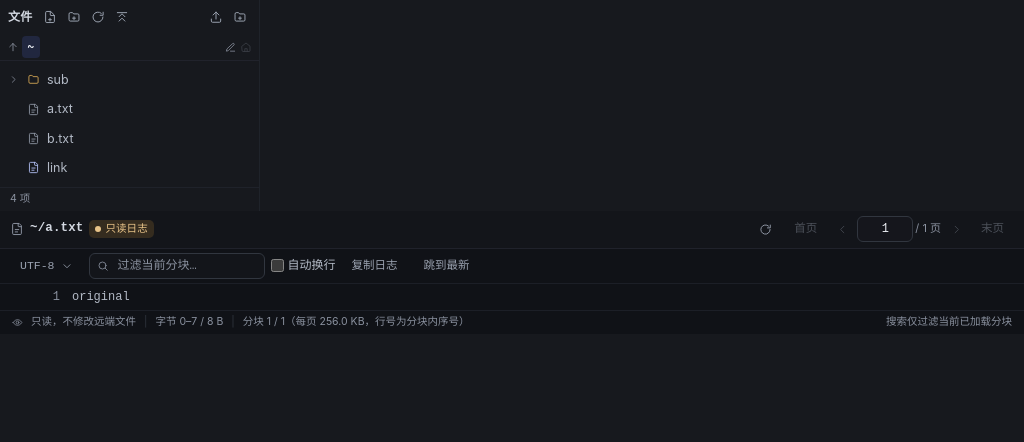
Scenario: R2 rename editor locator migration › reloads LogViewer from the migrated locator after rename
Right-click the list item "a.txt" at (50, 109), box top-left (27, 101), bottom-right (73, 116)
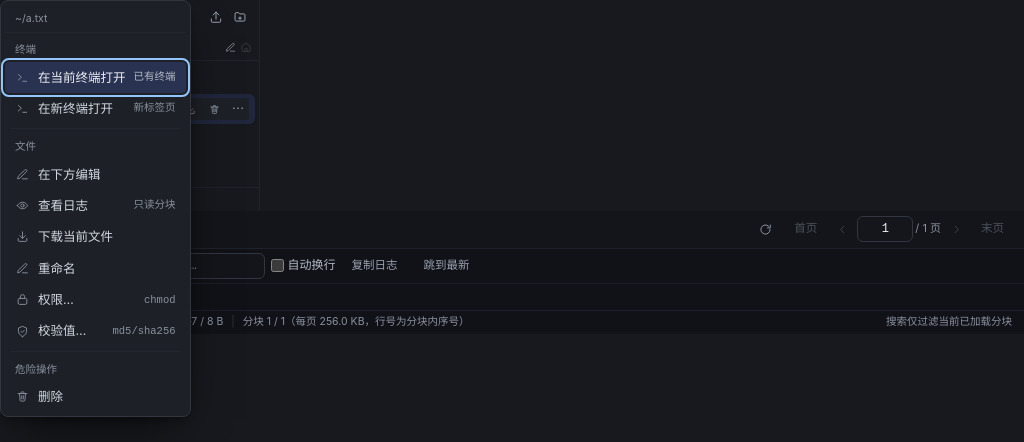
Click the menu item "重命名" at (95, 268), box top-left (5, 253), bottom-right (186, 284)
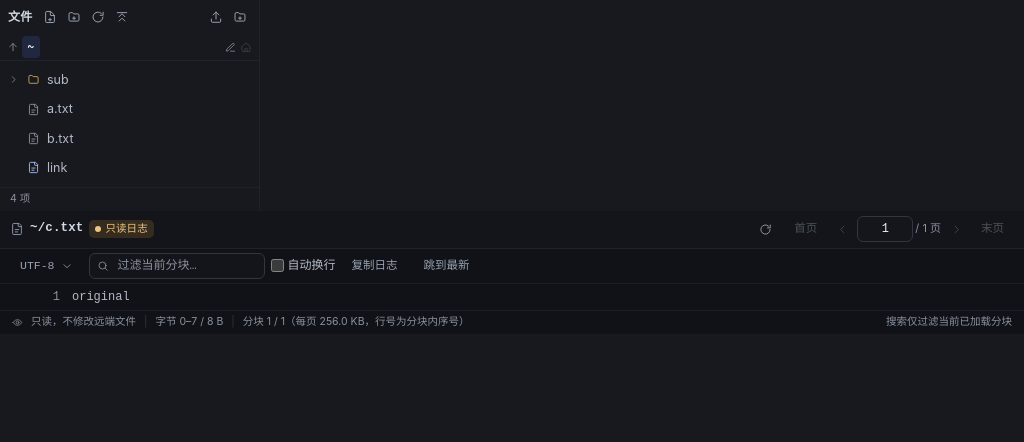
Expected: the text "~/c.txt" is shown, top-left (30, 219), bottom-right (83, 239)
